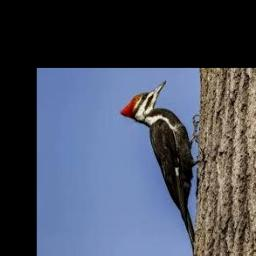Woodpecker: (120, 80, 200, 254)
